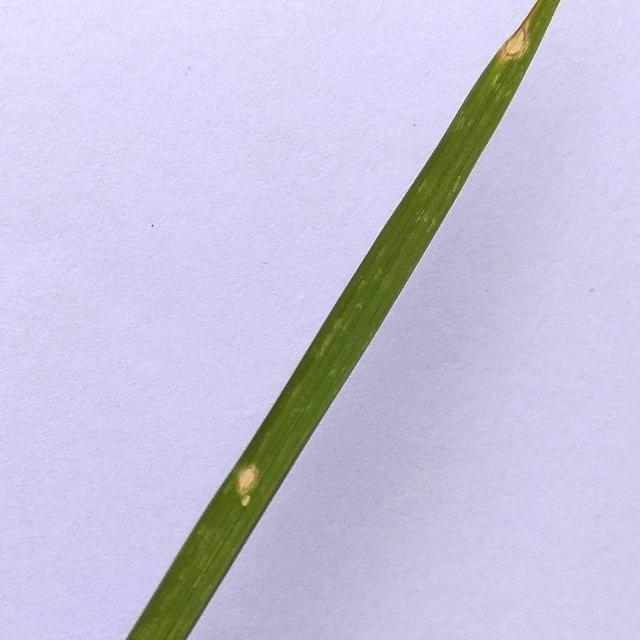Blast: (236, 468, 262, 503), (502, 38, 524, 56)
